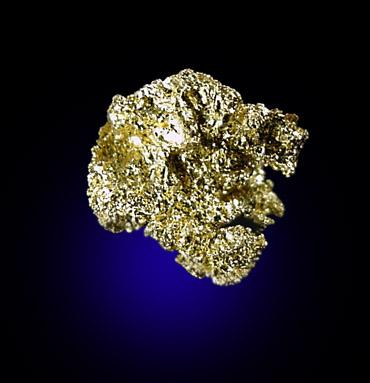gold: (87, 69, 309, 286)
